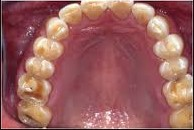UL1BC_decay: (155, 37, 183, 59)
UL1M_decay: (163, 77, 194, 106)
UL2BC_decay: (158, 58, 190, 78)
UL2M_decay: (171, 107, 194, 130)
ULCI_decay: (109, 1, 134, 20)
ULC_decay: (148, 16, 170, 40)
ULLI_decay: (132, 2, 153, 25)
UR1BC_decay: (34, 37, 64, 60)
UR1M_decay: (17, 76, 52, 105)
UR2BC_decay: (25, 58, 57, 79)
UR2M_decay: (17, 101, 52, 127)
URCI_decay: (81, 1, 108, 20)
URC_decay: (46, 18, 70, 40)
URLI_decay: (59, 4, 82, 24)
